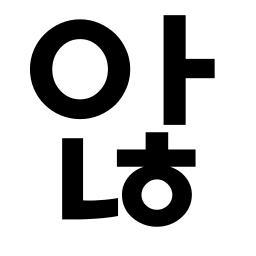Gaji: (146, 44, 204, 94)
